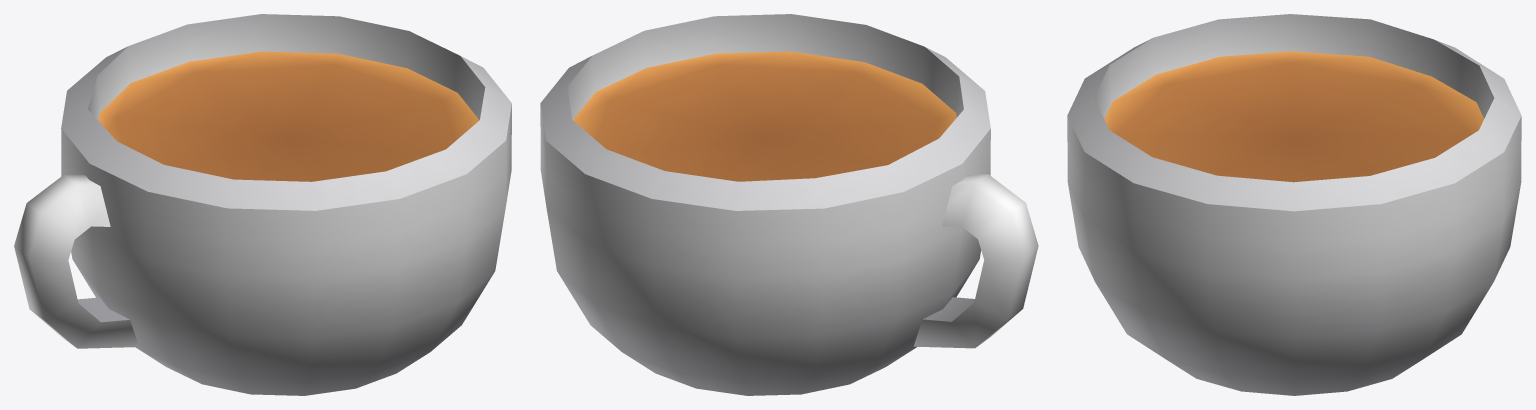
The model's file is m_Cup02_Coffee05.fbx.
3 views of the same model, side by side, from view 1: azimuth 30°, elevation 25°; view 2: azimuth 150°, elevation 25°; view 3: azimuth 270°, elevation 25° (orthographic).
Visible parts, largest first — view 1: m_Cup02_Coffee05; view 2: m_Cup02_Coffee05; view 3: m_Cup02_Coffee05.
Part boxes in pixels (x1,y1,x2,y2): m_Cup02_Coffee05: (14, 14, 511, 395); m_Cup02_Coffee05: (540, 14, 1038, 395); m_Cup02_Coffee05: (1067, 14, 1521, 395).
Bounding box in the file's own units: 14.87 × 7.38 × 12.68.
